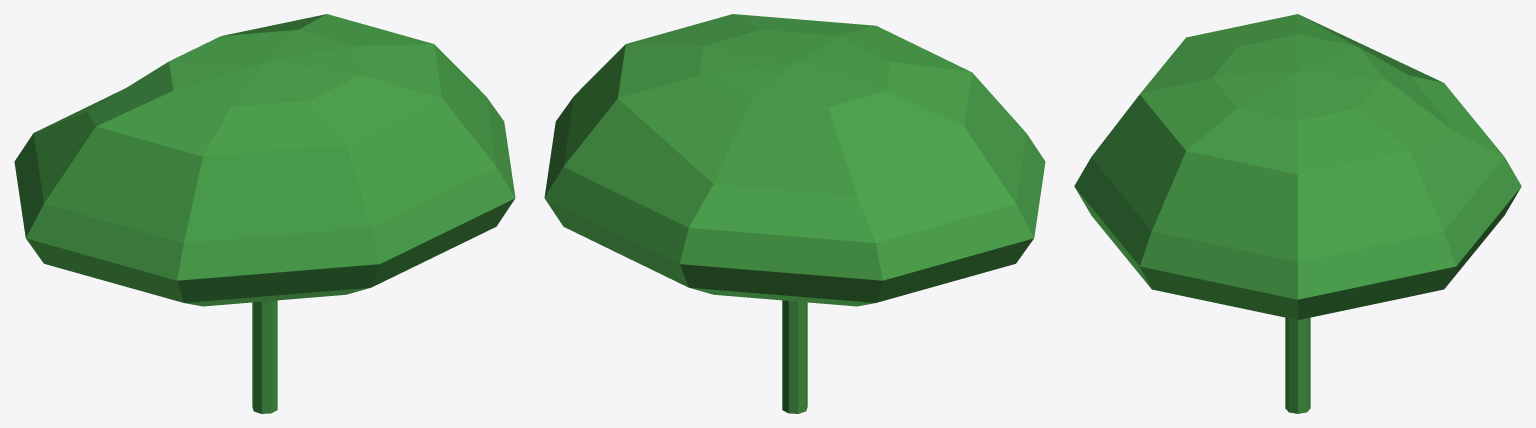
Rendered from asset_smallbush_03.fbx.
3 renders of one model, left to right at view 1: azimuth 30°, elevation 25°; view 2: azimuth 150°, elevation 25°; view 3: azimuth 270°, elevation 25°, orthographic. The views are drawn at different scales.
Parts seen in each view (by area): view 1: pSphere1, pCylinder1; view 2: pSphere1, pCylinder1; view 3: pSphere1, pCylinder1.
Boxes of the visible parts, x1,y1,x2,y2 form: pSphere1: (14, 14, 515, 306); pCylinder1: (252, 300, 277, 413); pSphere1: (544, 14, 1045, 306); pCylinder1: (782, 300, 807, 413); pSphere1: (1074, 14, 1521, 319); pCylinder1: (1285, 317, 1310, 413).
Bounding box in the file's own units: 128 × 88.28 × 106.
